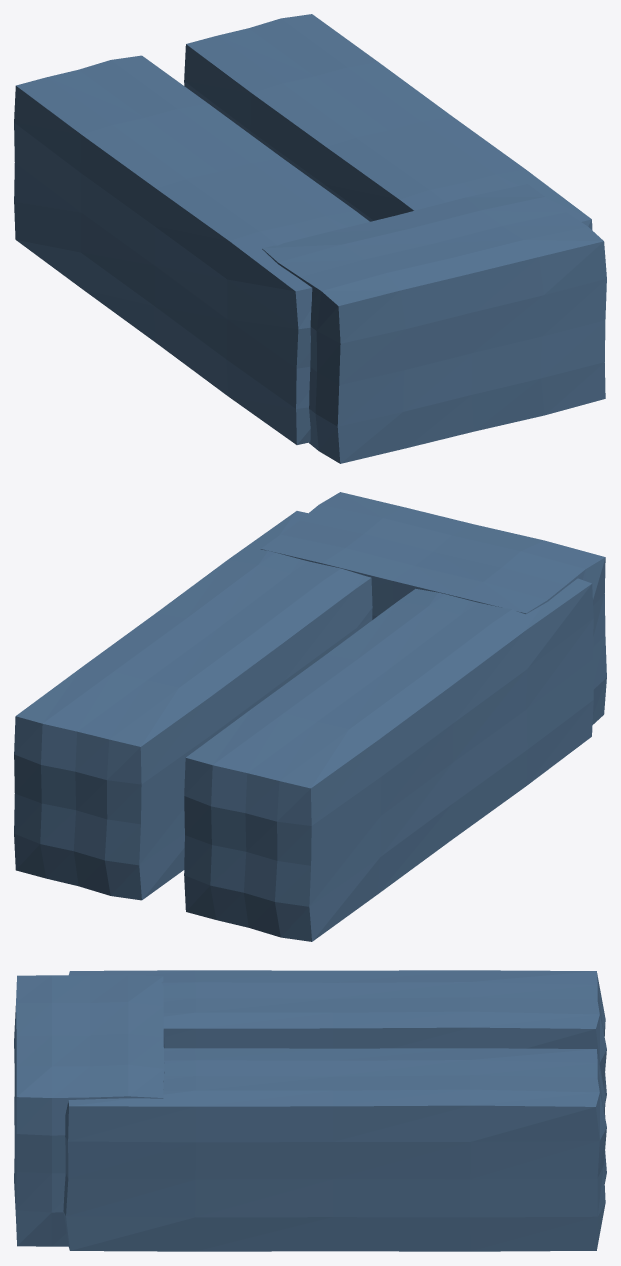
Rendered from pantalon.glb.
3 renders of one model, top to bottom at view 1: azimuth 30°, elevation 25°; view 2: azimuth 150°, elevation 25°; view 3: azimuth 270°, elevation 25°, orthographic. The views are drawn at different scales.
Visible parts, largest first — view 1: pantalon_00, pantalon_02, pantalon_01; view 2: pantalon_00, pantalon_01, pantalon_02; view 3: pantalon_01, pantalon_00, pantalon_02.
Part boxes in pixels (x1,y1,x2,y2): pantalon_00: (14,55,369,444); pantalon_02: (262,184,606,463); pantalon_01: (184,14,592,230); pantalon_00: (184,578,593,941); pantalon_01: (14,511,372,900); pantalon_02: (260,492,606,724); pantalon_01: (63,1048,606,1251); pantalon_00: (69,970,606,1117); pantalon_02: (14,974,164,1246).
Bounding box in the file's own units: 0.7766 × 0.4056 × 1.41.
